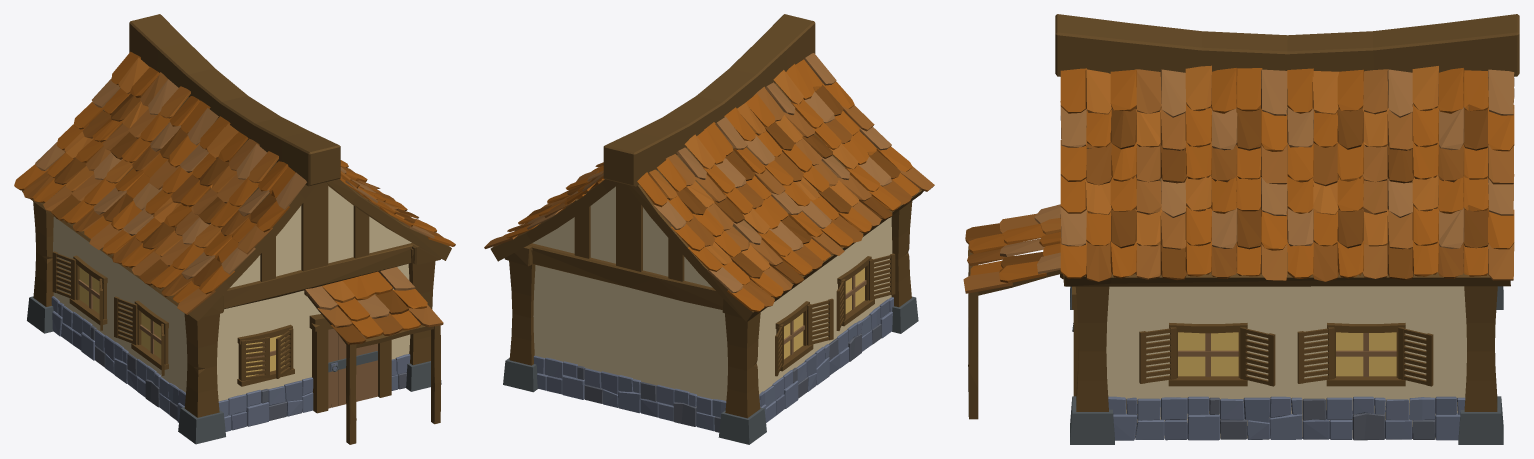
Rendered from House_01.fbx.
3 views of the same model, side by side, from view 1: azimuth 30°, elevation 25°; view 2: azimuth 150°, elevation 25°; view 3: azimuth 270°, elevation 25° (orthographic). The views are drawn at different scales.
Visible parts, largest first — view 1: House_01; view 2: House_01; view 3: House_01.
Boxes of the visible parts, <box> form: House_01: <box>14,14,455,444</box>; House_01: <box>484,14,934,444</box>; House_01: <box>963,14,1519,444</box>.
Bounding box in the file's own units: 5.87 × 5.46 × 7.97.
